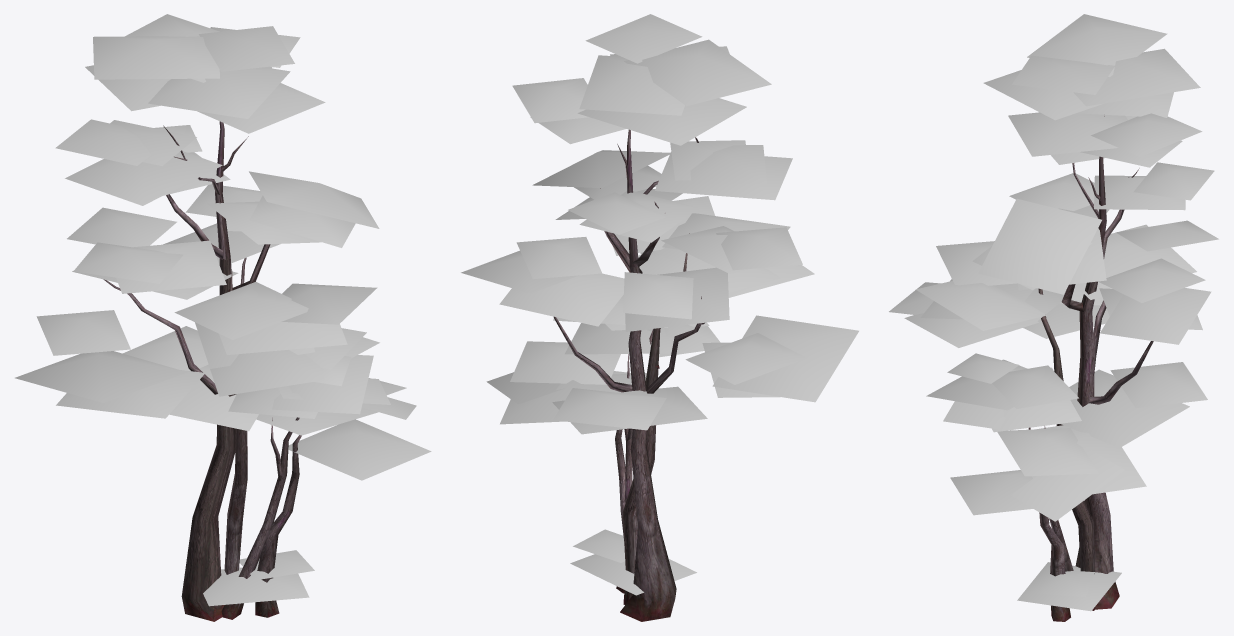
File: GZ_Xsc_lanshu_02_D.FBX
3 views of the same model, side by side, from view 1: azimuth 30°, elevation 25°; view 2: azimuth 150°, elevation 25°; view 3: azimuth 270°, elevation 25° (orthographic). The views are drawn at different scales.
Parts seen in each view (by area): view 1: GZ_Xsc_lanshuye_02_D, GZ_Xsc_lanshugan_02_D; view 2: GZ_Xsc_lanshuye_02_D, GZ_Xsc_lanshugan_02_D; view 3: GZ_Xsc_lanshuye_02_D, GZ_Xsc_lanshugan_02_D.
Part boxes in pixels (left/top/right/bottom): GZ_Xsc_lanshuye_02_D: left=15, top=14, right=431, bottom=606; GZ_Xsc_lanshugan_02_D: left=103, top=121, right=301, bottom=621; GZ_Xsc_lanshuye_02_D: left=461, top=14, right=858, bottom=595; GZ_Xsc_lanshugan_02_D: left=553, top=129, right=704, bottom=621; GZ_Xsc_lanshuye_02_D: left=889, top=14, right=1218, bottom=611; GZ_Xsc_lanshugan_02_D: left=1028, top=116, right=1153, bottom=621.
Size of the model in its own units: 9.71 by 14.59 by 8.01.
